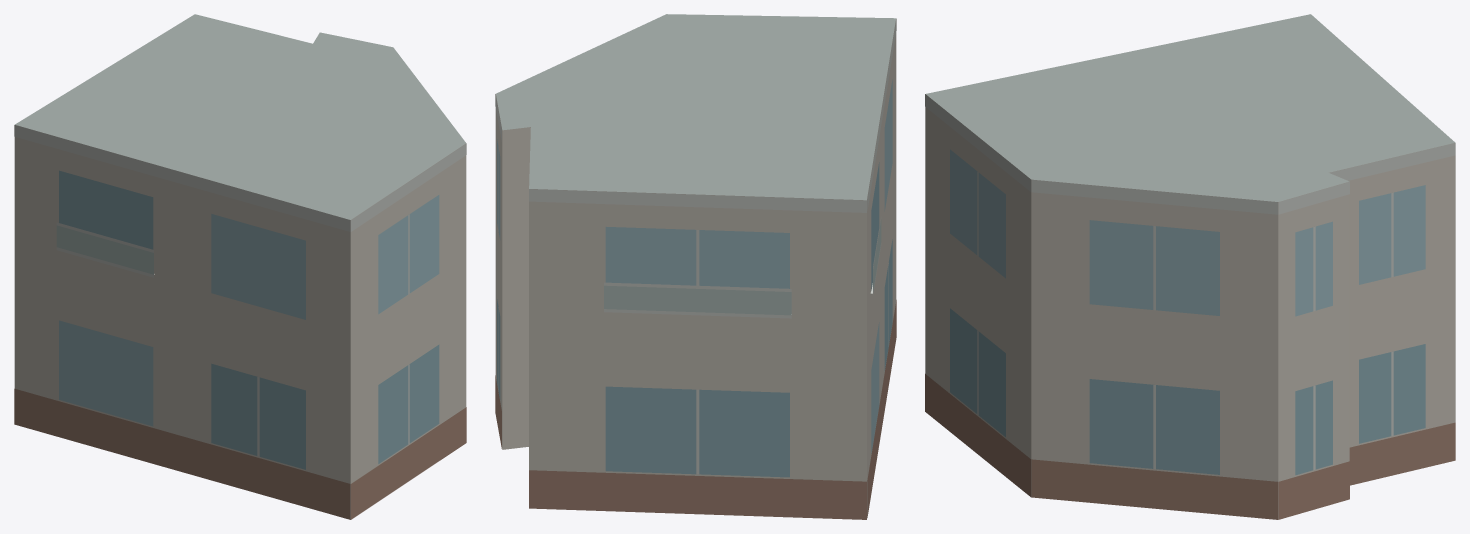
Rendered from survey-upis-32465332.glb.
3 views of the same model, side by side, from view 1: azimuth 30°, elevation 25°; view 2: azimuth 150°, elevation 25°; view 3: azimuth 270°, elevation 25° (orthographic). The views are drawn at different scales.
Visible parts, largest first — view 1: survey-upis-32465332.tmp; view 2: survey-upis-32465332.tmp; view 3: survey-upis-32465332.tmp.
Part boxes in pixels (x1,y1,x2,y2): survey-upis-32465332.tmp: [14, 14, 466, 519]; survey-upis-32465332.tmp: [495, 14, 896, 519]; survey-upis-32465332.tmp: [925, 14, 1455, 519].
Size of the model in its own units: 7.75 by 6.1 by 9.24.
